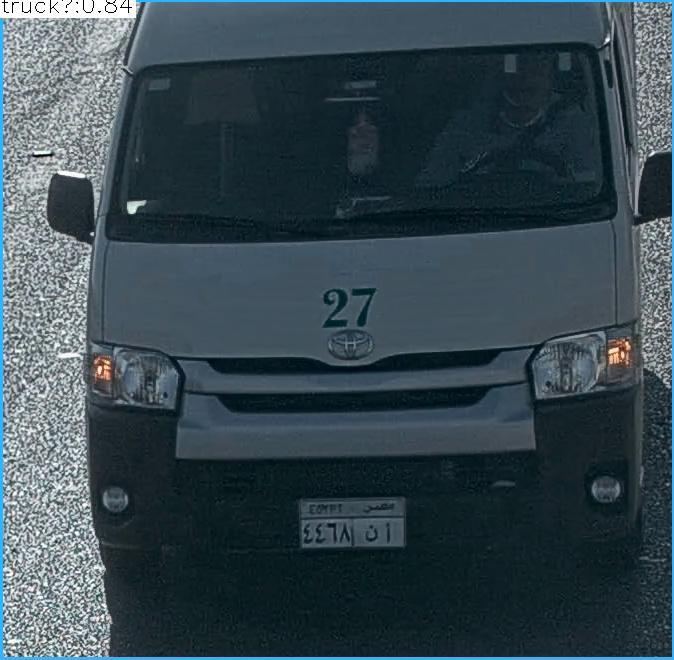windshield: (95, 42, 617, 250)
